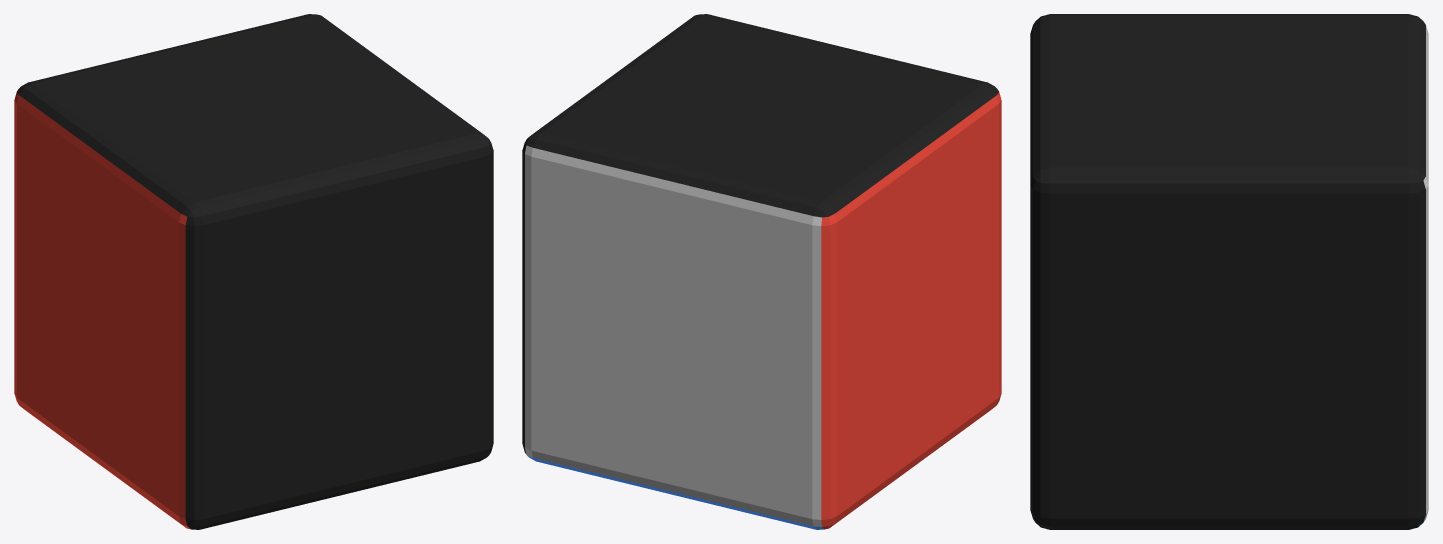
Rendered from cubeTest.glb.
3 renders of one model, left to right at view 1: azimuth 30°, elevation 25°; view 2: azimuth 150°, elevation 25°; view 3: azimuth 270°, elevation 25°, orthographic. The views are drawn at different scales.
Parts seen in each view (by area): view 1: Cube.006; view 2: Cube.006; view 3: Cube.006.
Boxes of the visible parts, <box> form: Cube.006: <box>14,14,493,529</box>; Cube.006: <box>522,14,1001,529</box>; Cube.006: <box>1030,14,1428,529</box>.
Size of the model in its own units: 2 by 2 by 2.
